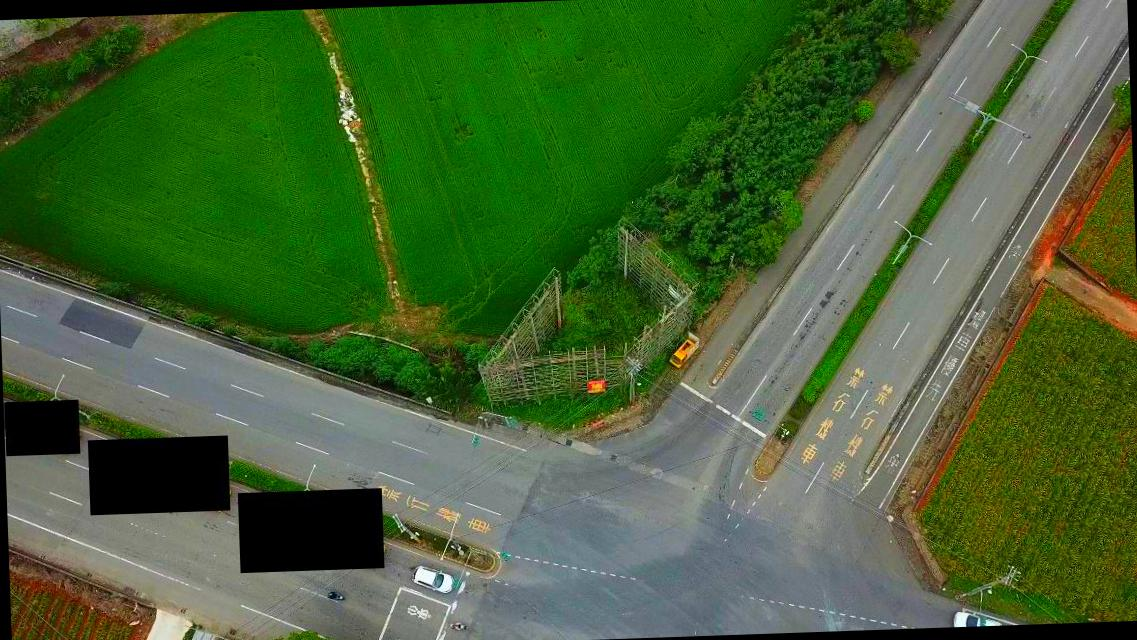vehicle: (409, 562, 454, 594), (949, 609, 1008, 627), (668, 337, 696, 368)
